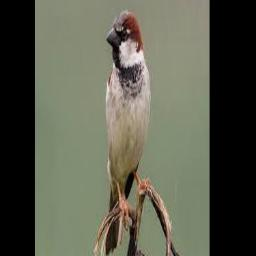Sparrow: (104, 9, 152, 255)
